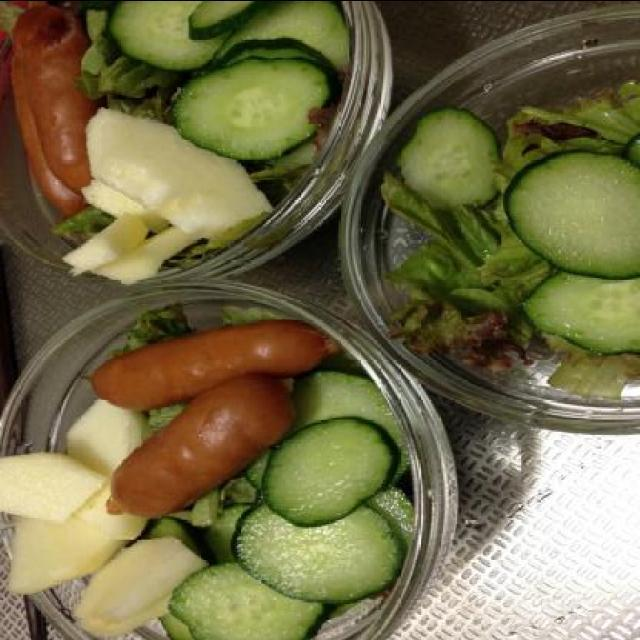Cucumber: (152, 365, 419, 640), (107, 2, 350, 158), (502, 144, 638, 282), (400, 102, 502, 210), (519, 267, 639, 353)
